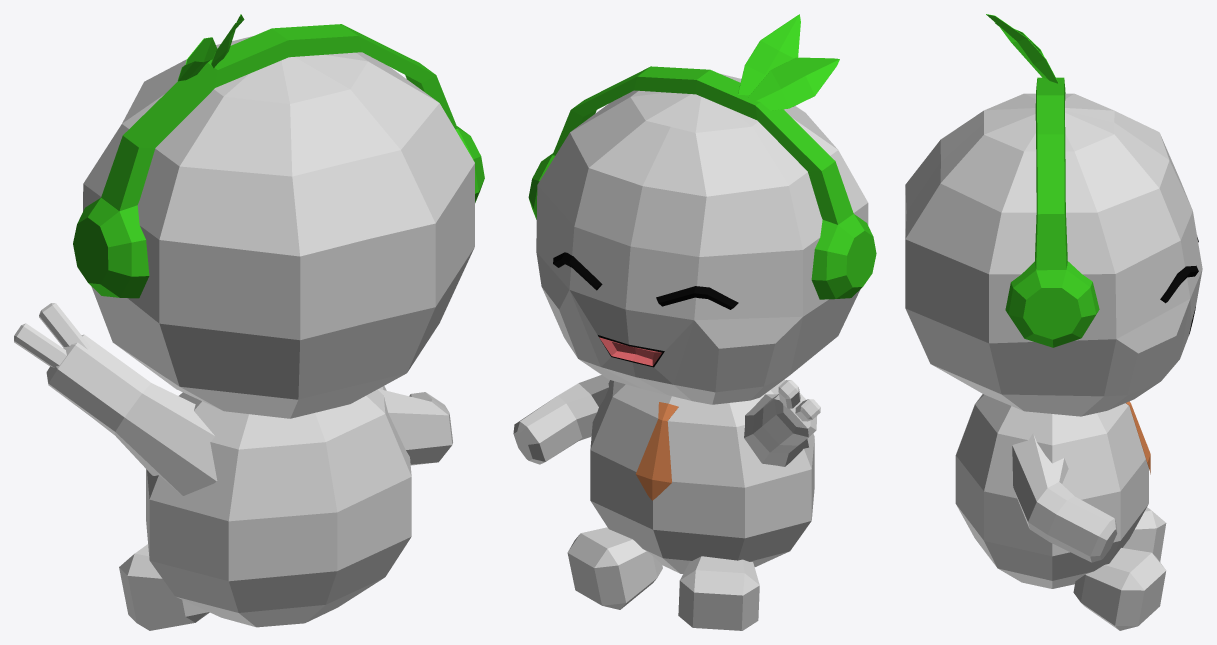
The model's file is Plushie.fbx.
3 renders of one model, left to right at view 1: azimuth 30°, elevation 25°; view 2: azimuth 150°, elevation 25°; view 3: azimuth 270°, elevation 25°, orthographic. The views are drawn at different scales.
Parts seen in each view (by area): view 1: Head, Body, Left hand, Legs, Right hand, Ribbon; view 2: Head, Body, Legs, Ribbon, Right hand, Left hand, Tie, Eye; view 3: Head, Body, Right hand, Legs, Ribbon, Eye.
Part boxes in pixels (box(x1,y1,x2,y2)): Head: box(73, 24, 484, 418); Body: box(146, 386, 411, 627); Left hand: box(14, 303, 217, 495); Legs: box(119, 544, 209, 630); Right hand: box(378, 389, 452, 465); Ribbon: box(177, 14, 244, 81); Head: box(528, 66, 876, 404); Body: box(590, 379, 814, 573); Legs: box(567, 527, 759, 630); Ribbon: box(738, 14, 839, 110); Right hand: box(513, 375, 609, 464); Left hand: box(744, 380, 820, 466); Tie: box(636, 402, 678, 500); Eye: box(553, 252, 738, 309); Head: box(905, 77, 1202, 416); Body: box(955, 394, 1148, 588); Right hand: box(1012, 433, 1117, 562); Legs: box(1073, 507, 1166, 630); Ribbon: box(986, 14, 1058, 83); Eye: box(1160, 237, 1198, 303).
Bounding box in the file's own units: 221 × 355 × 174.
